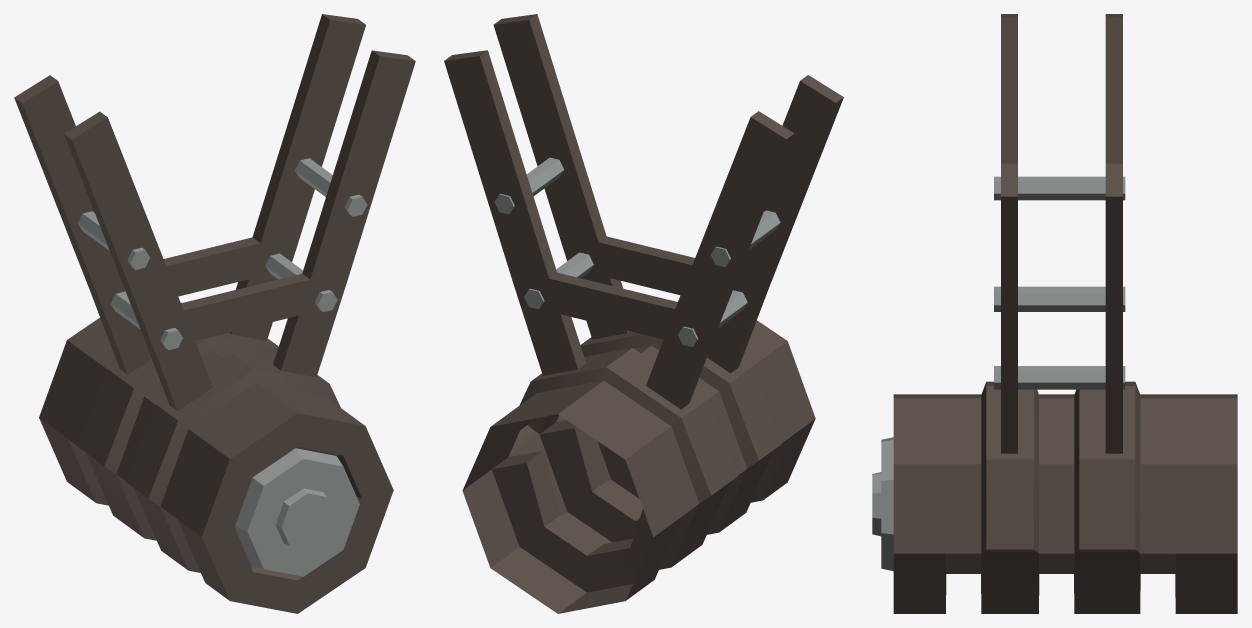
File: axeTrapBase.fbx
The picture shows the model from 3 angles, left to right: view 1: azimuth 30°, elevation 25°; view 2: azimuth 150°, elevation 25°; view 3: azimuth 270°, elevation 25°; orthographic projection. The views are drawn at different scales.
Parts seen in each view (by area): view 1: axeTrapBase; view 2: axeTrapBase; view 3: axeTrapBase.
Boxes of the visible parts, x1=… form: axeTrapBase: x1=14, y1=14, x2=415, y2=613; axeTrapBase: x1=444, y1=14, x2=843, y2=613; axeTrapBase: x1=872, y1=14, x2=1237, y2=613.
Bounding box in the file's own units: 2.97 × 4.07 × 2.59.
Materials: 1 (1 with a texture image).
